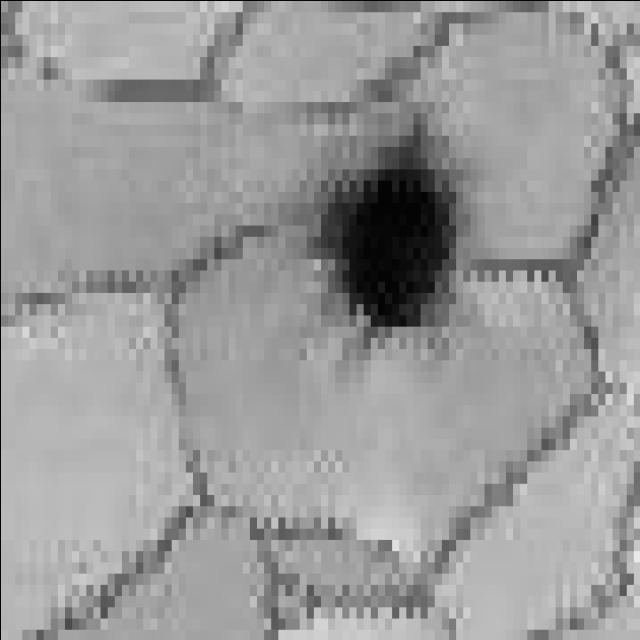good_void: (303, 99, 475, 365)
